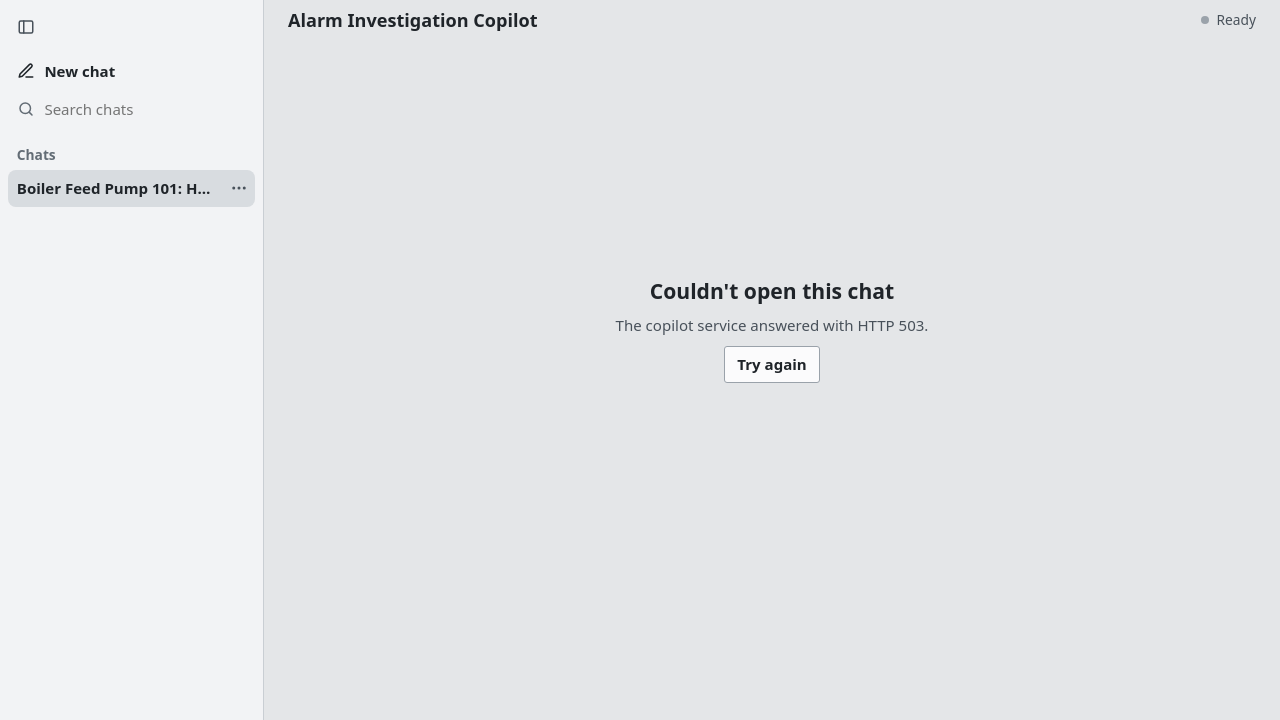
Test: a chat that can't be opened yet can be tried again
This screenshot has width=1280, height=720.
Expected: the text "Ready" is shown, [1201,10,1256,30]
Expected: the message shows "Couldn't open this chat", [650,276,894,305]
Click the button "Try again". click: coordinates (772, 365)
box: [724,346,820,383]
(page scrolled)
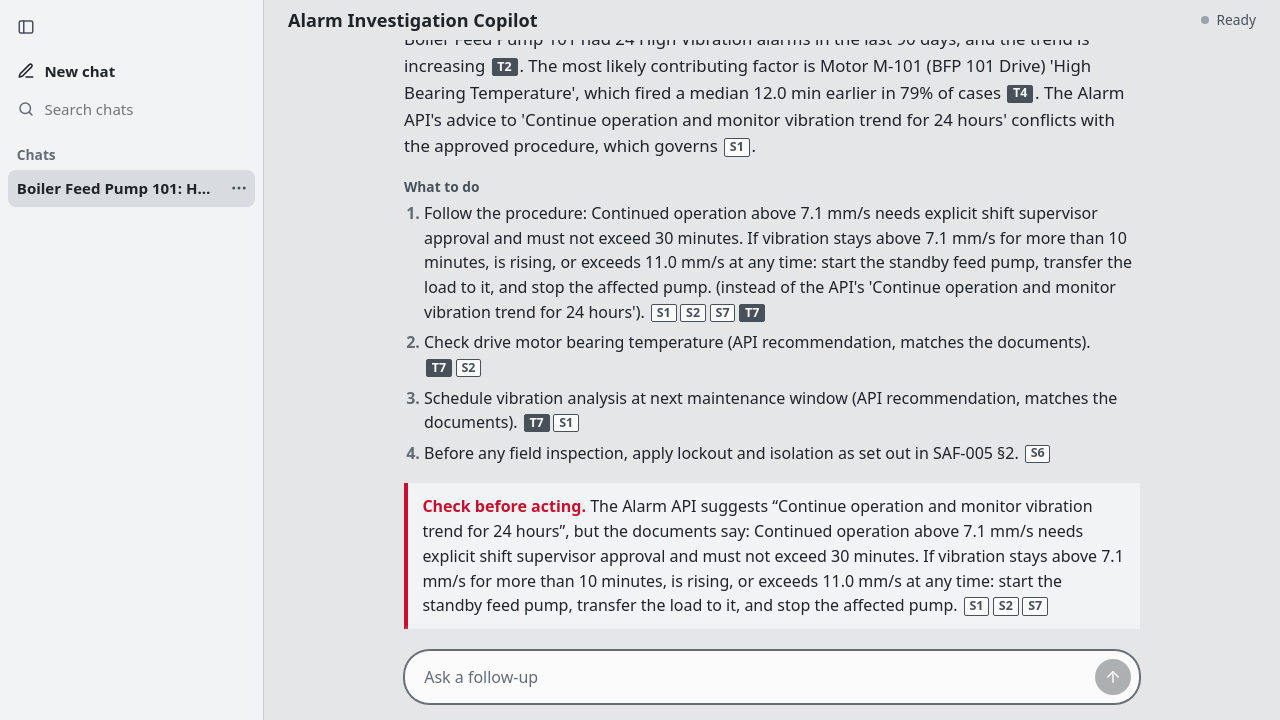
Now the element named "Answer" is shown, box [404,40,1140,646]
